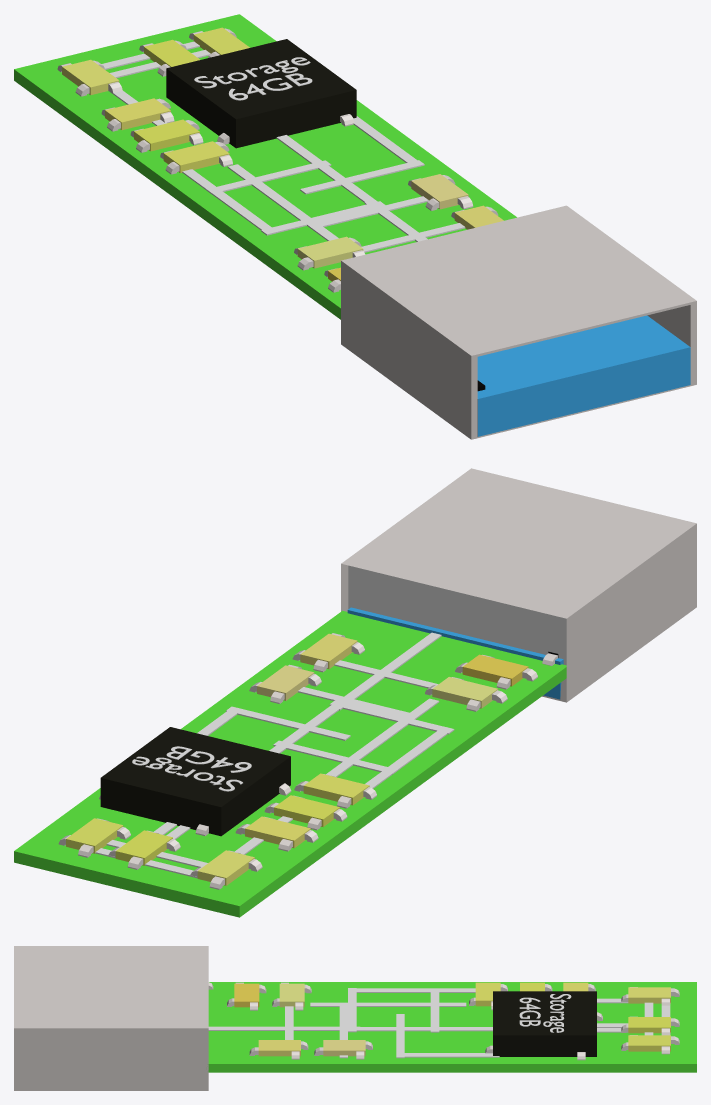
File: flashdrive_1781723073426_model.glb
3 renders of one model, top to bottom at view 1: azimuth 30°, elevation 25°; view 2: azimuth 150°, elevation 25°; view 3: azimuth 270°, elevation 25°, orthographic. The views are drawn at different scales.
Parts seen in each view (by area): view 1: Cube.001, Cube, Cube.002, Text, Cube.021, Cube.026, Cube.016, Cube.051, Cube.060, Cube.041, Cube.011, Cube.062 (+10 smaller); view 2: Cube.001, Cube.002, Cube.004, Cube, Text, Cube.046, Cube.026, Cube.051, Cube.021, Cube.016, Cube.006, Cube.041 (+9 smaller); view 3: Cube.001, Cube.002, Text, Cube.060, Cube.006, Cube.031, Cube.011, Cube.036, Cube.041, Cube.061, Cube.070, Cube.046 (+11 smaller).
Part boxes in pixels (bbox=[...]): Cube.001: bbox=[14, 14, 696, 439]; Cube: bbox=[477, 315, 690, 436]; Cube.002: bbox=[166, 39, 356, 148]; Text: bbox=[194, 57, 312, 100]; Cube.021: bbox=[134, 119, 199, 151]; Cube.026: bbox=[163, 141, 229, 172]; Cube.016: bbox=[105, 98, 170, 130]; Cube.051: bbox=[297, 236, 363, 268]; Cube.060: bbox=[227, 164, 338, 240]; Cube.041: bbox=[62, 59, 119, 95]; Cube.011: bbox=[411, 174, 468, 209]; Cube.062: bbox=[276, 135, 377, 203]; Cube.001: bbox=[14, 468, 696, 917]; Cube.002: bbox=[100, 727, 290, 836]; Cube.004: bbox=[348, 565, 566, 665]; Cube: bbox=[347, 607, 563, 699]; Text: bbox=[132, 746, 251, 791]; Cube.046: bbox=[462, 654, 528, 686]; Cube.026: bbox=[303, 773, 369, 805]; Cube.051: bbox=[432, 677, 498, 708]; Cube.021: bbox=[274, 795, 339, 826]; Cube.016: bbox=[245, 816, 310, 848]; Cube.006: bbox=[300, 633, 357, 669]; Cube.041: bbox=[197, 850, 254, 885]; Cube.001: bbox=[14, 946, 696, 1090]; Cube.002: bbox=[493, 991, 596, 1056]; Text: bbox=[519, 994, 571, 1032]; Cube.060: bbox=[310, 1002, 466, 1006]; Cube.006: bbox=[258, 1040, 300, 1056]; Cube.031: bbox=[628, 1035, 670, 1051]; Cube.011: bbox=[323, 1040, 365, 1056]; Cube.036: bbox=[628, 1017, 670, 1033]; Cube.041: bbox=[628, 987, 670, 1003]; Cube.061: bbox=[208, 1026, 360, 1030]; Cube.070: bbox=[348, 988, 475, 992]; Cube.046: bbox=[234, 983, 259, 1007].
Bounding box in the file's own units: 2 × 0.7106 × 7.02.
